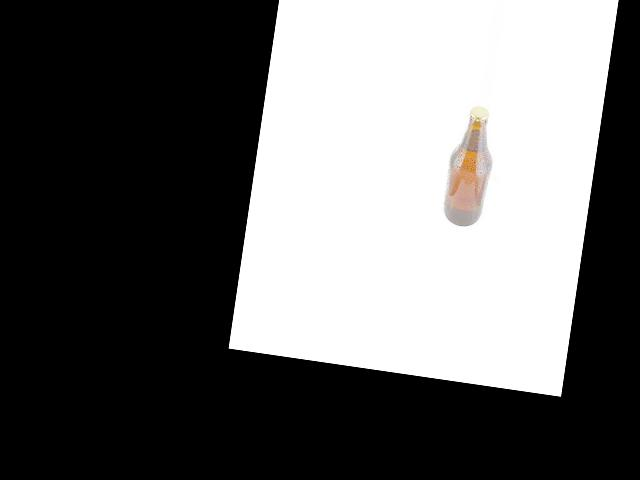beer: (441, 103, 497, 228)
